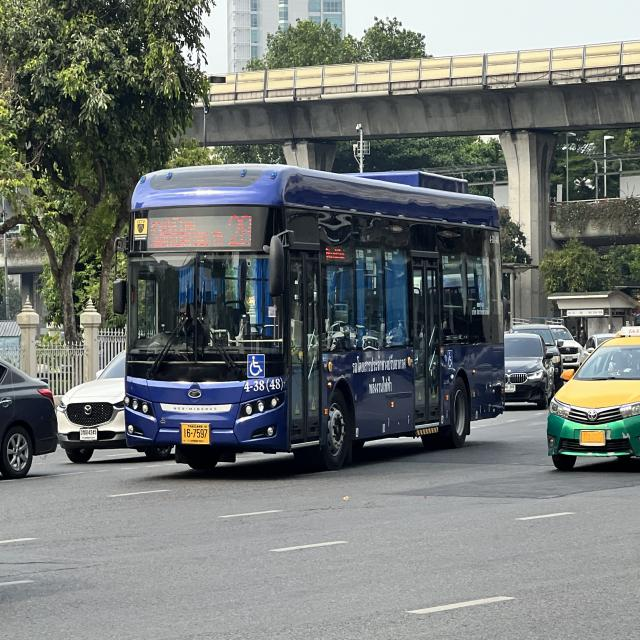Bus-Line-Number: (226, 213, 257, 250)
Destination-Sign-Normal: (147, 214, 225, 248)
TSB-Bus: (120, 165, 505, 474)
